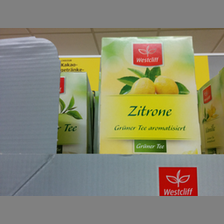tea: (96, 35, 202, 154)
